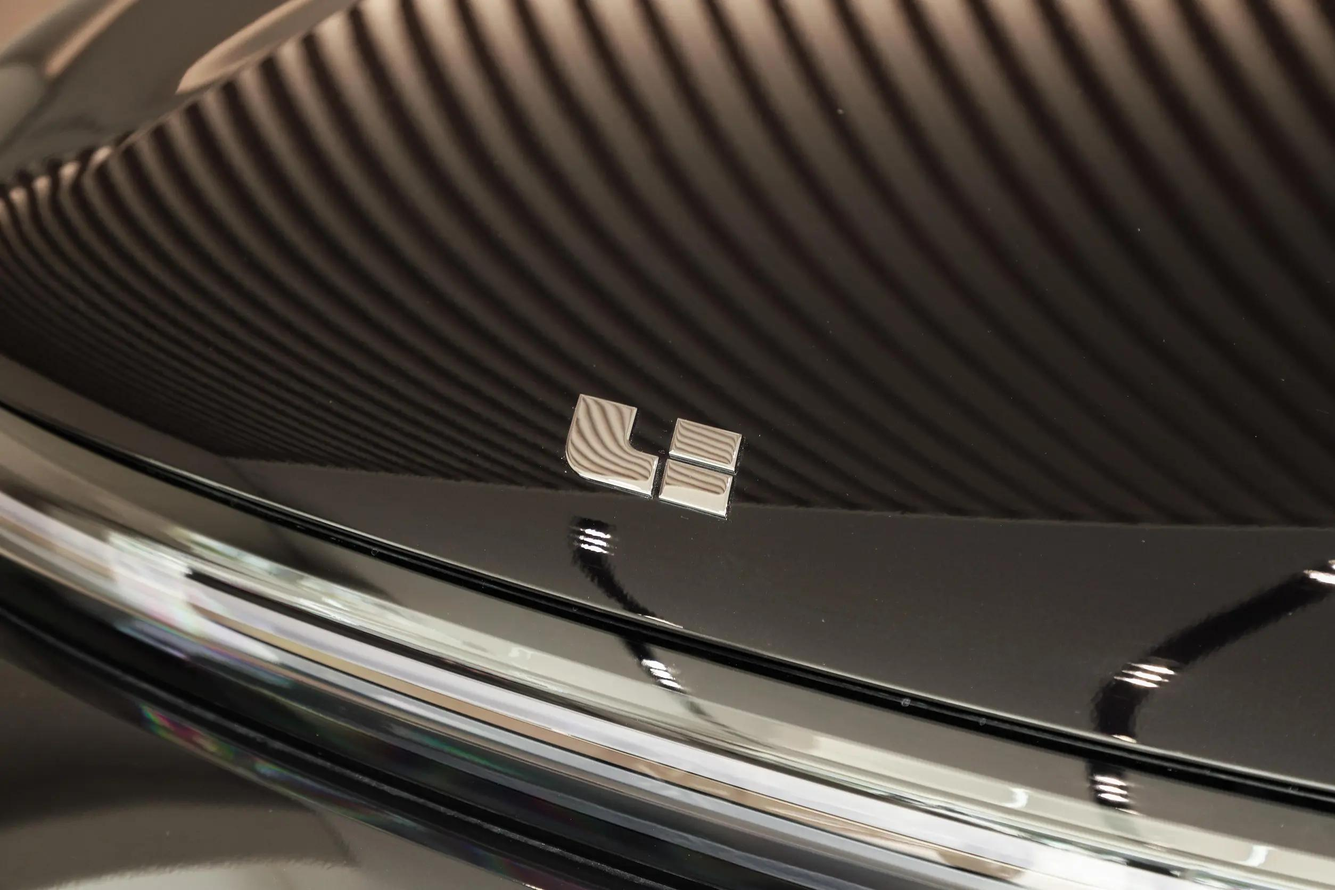Li Auto: (565, 392, 742, 521)
